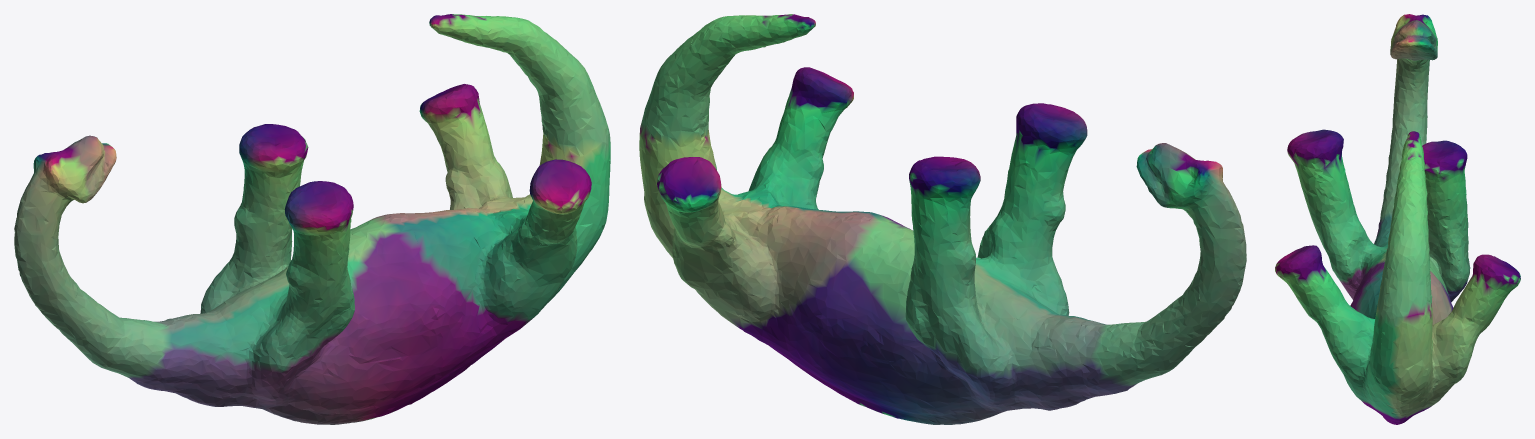
Rendered from dinosaur-1.off.obj.
3 renders of one model, left to right at view 1: azimuth 30°, elevation 25°; view 2: azimuth 150°, elevation 25°; view 3: azimuth 270°, elevation 25°, orthographic. The views are drawn at different scales.
Size of the model in its own units: 1.51 by 0.9239 by 0.6668.
